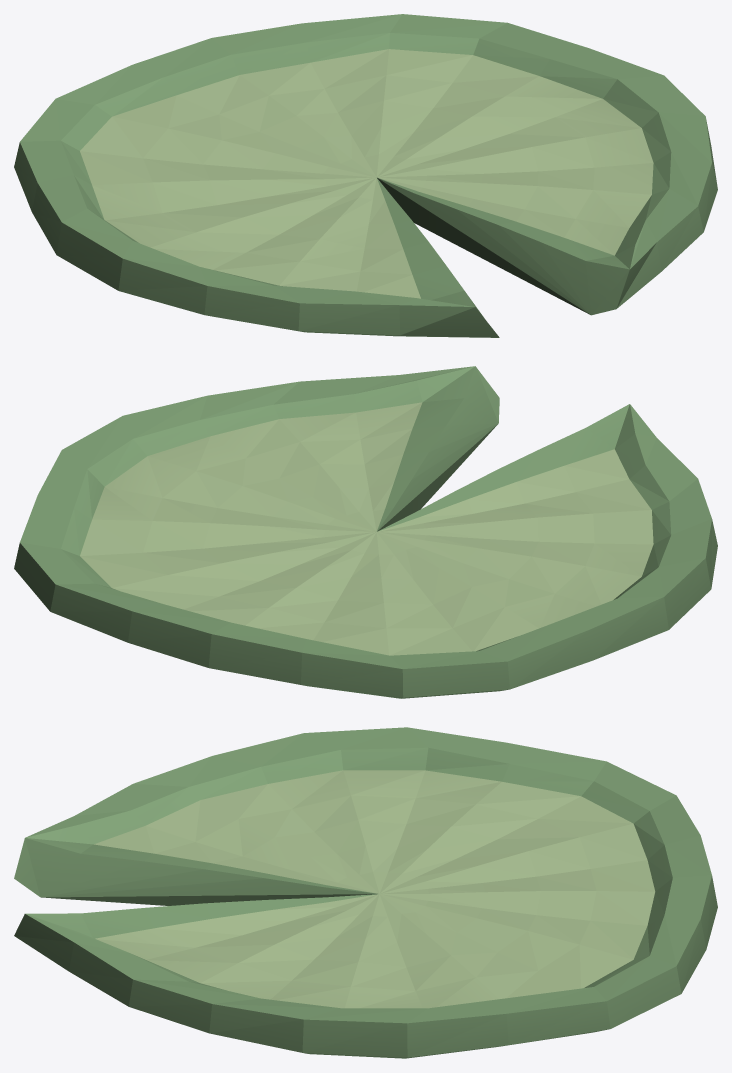
The model's file is lily.glb.
3 renders of one model, top to bottom at view 1: azimuth 30°, elevation 25°; view 2: azimuth 150°, elevation 25°; view 3: azimuth 270°, elevation 25°, orthographic.
Parts seen in each view (by area): view 1: lily; view 2: lily; view 3: lily.
Part boxes in pixels (x1=…): lily: x1=14, y1=14, x2=717, y2=337; lily: x1=14, y1=366, x2=717, y2=698; lily: x1=14, y1=727, x2=717, y2=1058.
Size of the model in its own units: 1.5 by 0.1046 by 1.48.
